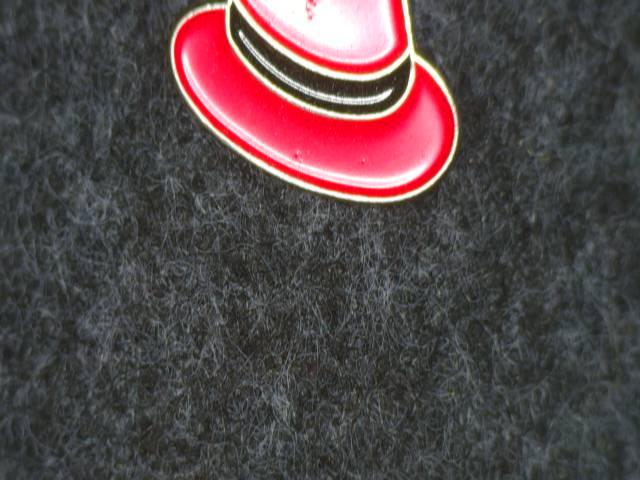Red-Hat: (165, 0, 486, 258)
